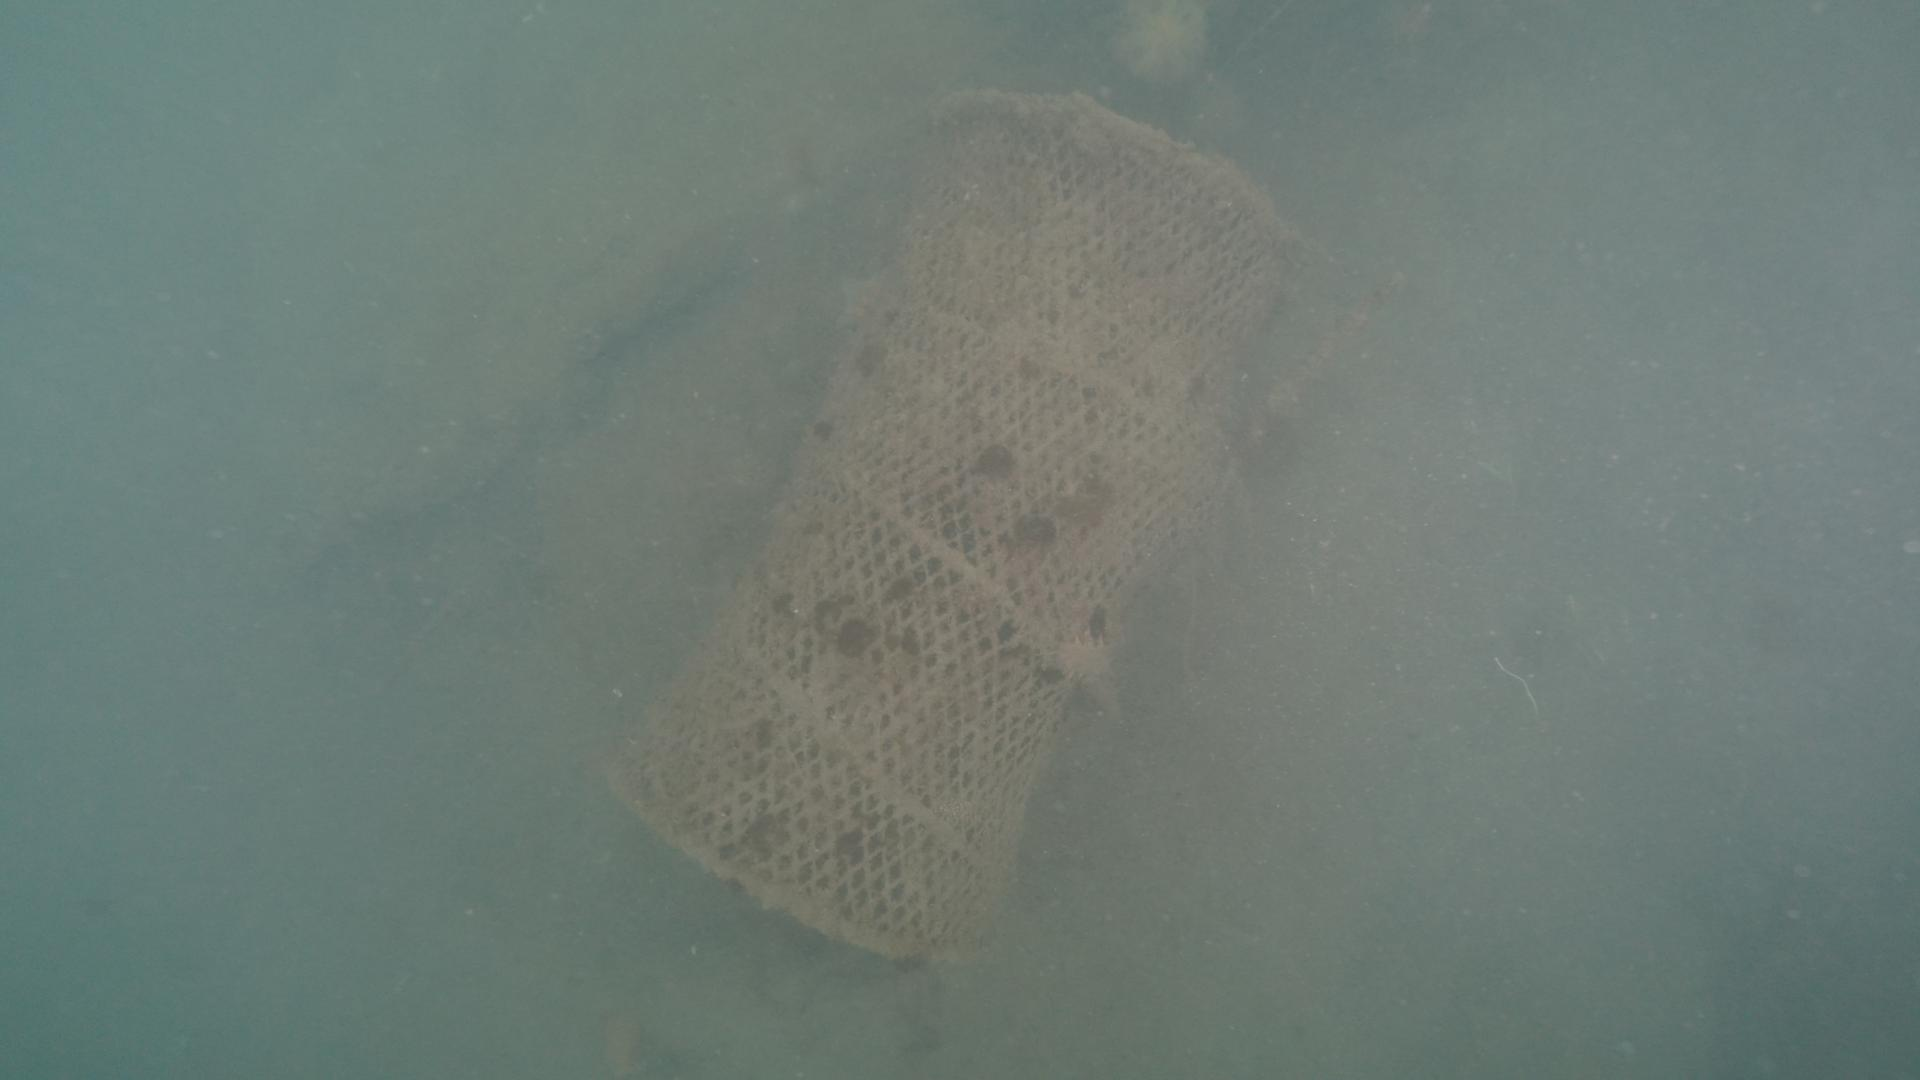spring fish trap: (599, 76, 1325, 969)
